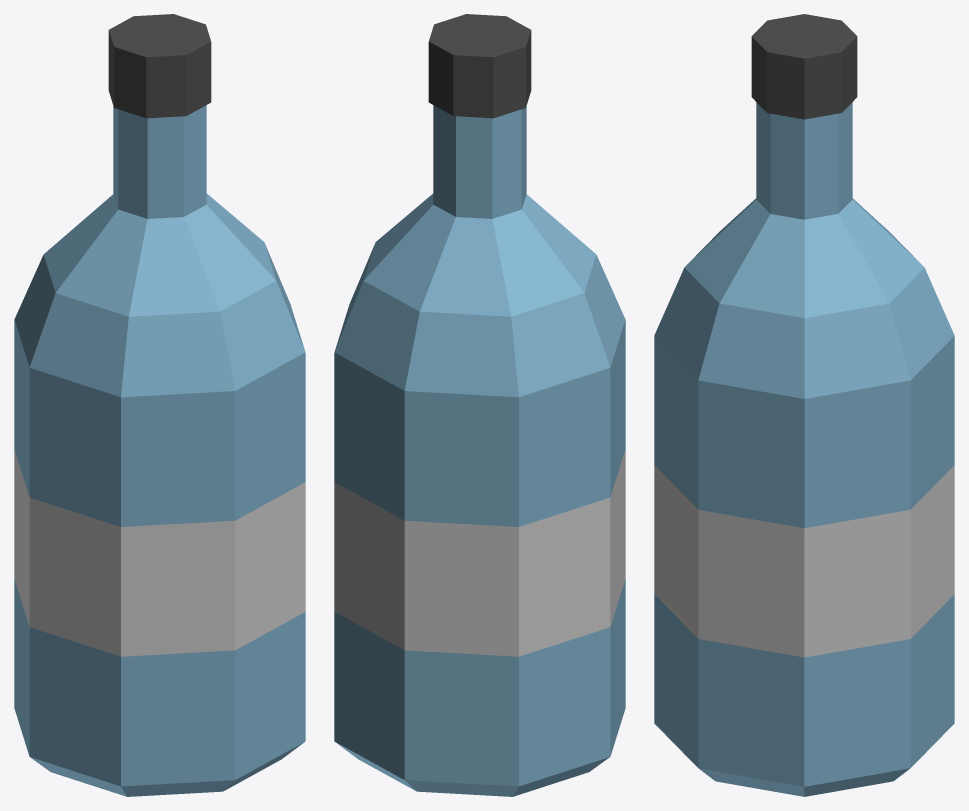
The model's file is BottleOfWater.fbx.
3 renders of one model, left to right at view 1: azimuth 30°, elevation 25°; view 2: azimuth 150°, elevation 25°; view 3: azimuth 270°, elevation 25°, orthographic.
Visible parts, largest first — view 1: Cylinder; view 2: Cylinder; view 3: Cylinder.
Boxes of the visible parts, x1,y1,x2,y2 form: Cylinder: (14,14,305,796); Cylinder: (334,14,625,796); Cylinder: (654,14,954,796).
Size of the model in its own units: 200 by 520 by 200.
